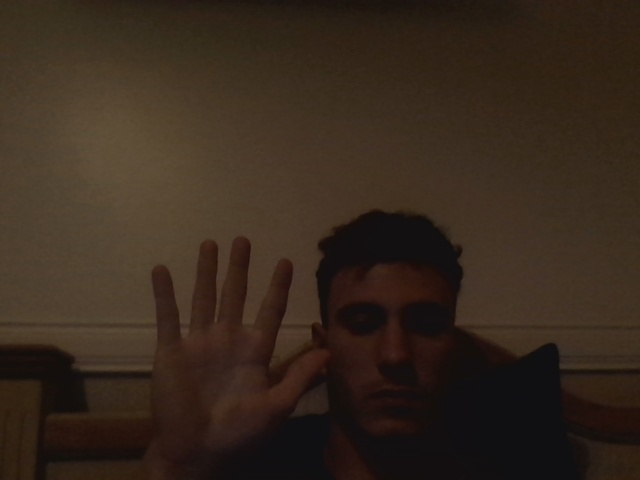Play: (152, 236, 331, 458)
